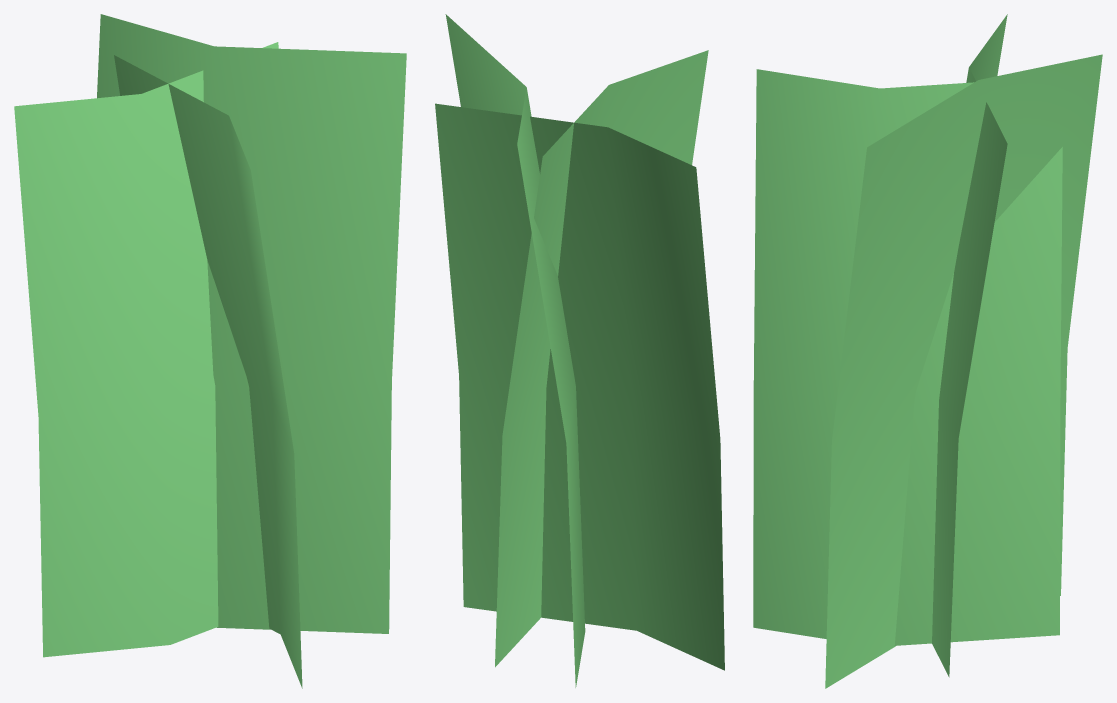
File: GrassPlanes_a_TwoS_06.fbx
3 renders of one model, left to right at view 1: azimuth 30°, elevation 25°; view 2: azimuth 150°, elevation 25°; view 3: azimuth 270°, elevation 25°, orthographic.
Parts seen in each view (by area): view 1: GrassPlanes_a_TwoS_06; view 2: GrassPlanes_a_TwoS_06; view 3: GrassPlanes_a_TwoS_06.
Part boxes in pixels (bbox=[...]): GrassPlanes_a_TwoS_06: bbox=[14, 14, 406, 688]; GrassPlanes_a_TwoS_06: bbox=[435, 14, 724, 687]; GrassPlanes_a_TwoS_06: bbox=[753, 14, 1102, 688].
Size of the model in its own units: 35.29 by 58.07 by 32.82.
